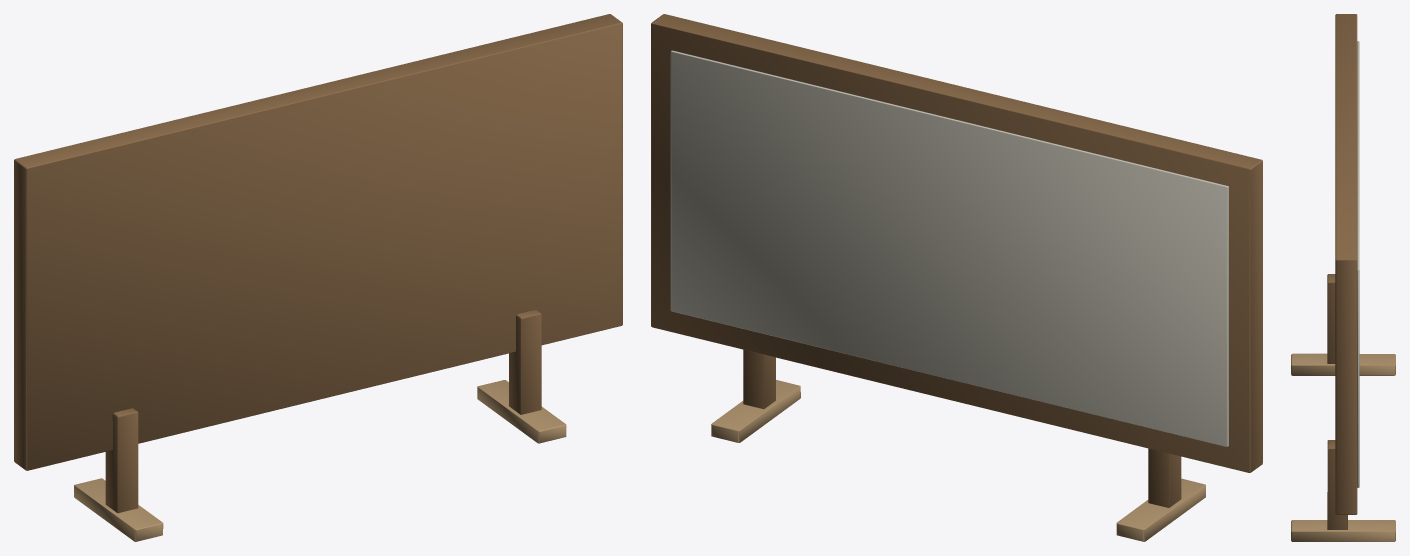
Rendered from mural_stage0.glb.
The picture shows the model from 3 angles, left to right: view 1: azimuth 30°, elevation 25°; view 2: azimuth 150°, elevation 25°; view 3: azimuth 270°, elevation 25°; orthographic projection. The views are drawn at different scales.
Size of the model in its own units: 4 by 2.4 by 0.72.
